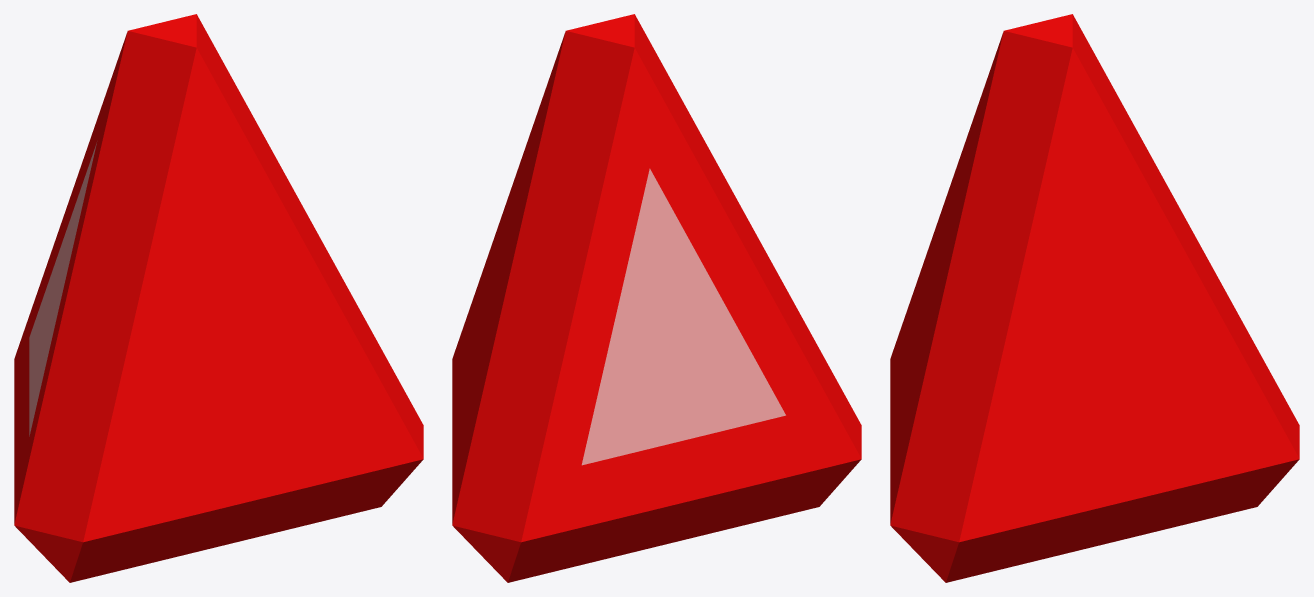
The model's file is pomegranate03.gltf.
The picture shows the model from 3 angles, left to right: view 1: azimuth 30°, elevation 25°; view 2: azimuth 150°, elevation 25°; view 3: azimuth 270°, elevation 25°; orthographic projection.
Visible parts, largest first — view 1: Cone; view 2: Cone; view 3: Cone.
Boxes of the visible parts, x1,y1,x2,y2 form: Cone: [14, 14, 423, 582]; Cone: [452, 14, 861, 582]; Cone: [890, 14, 1299, 582].
Bounding box in the file's own units: 0.00776 × 0.00863 × 0.00672.
Materials: 1 (1 with a texture image).
